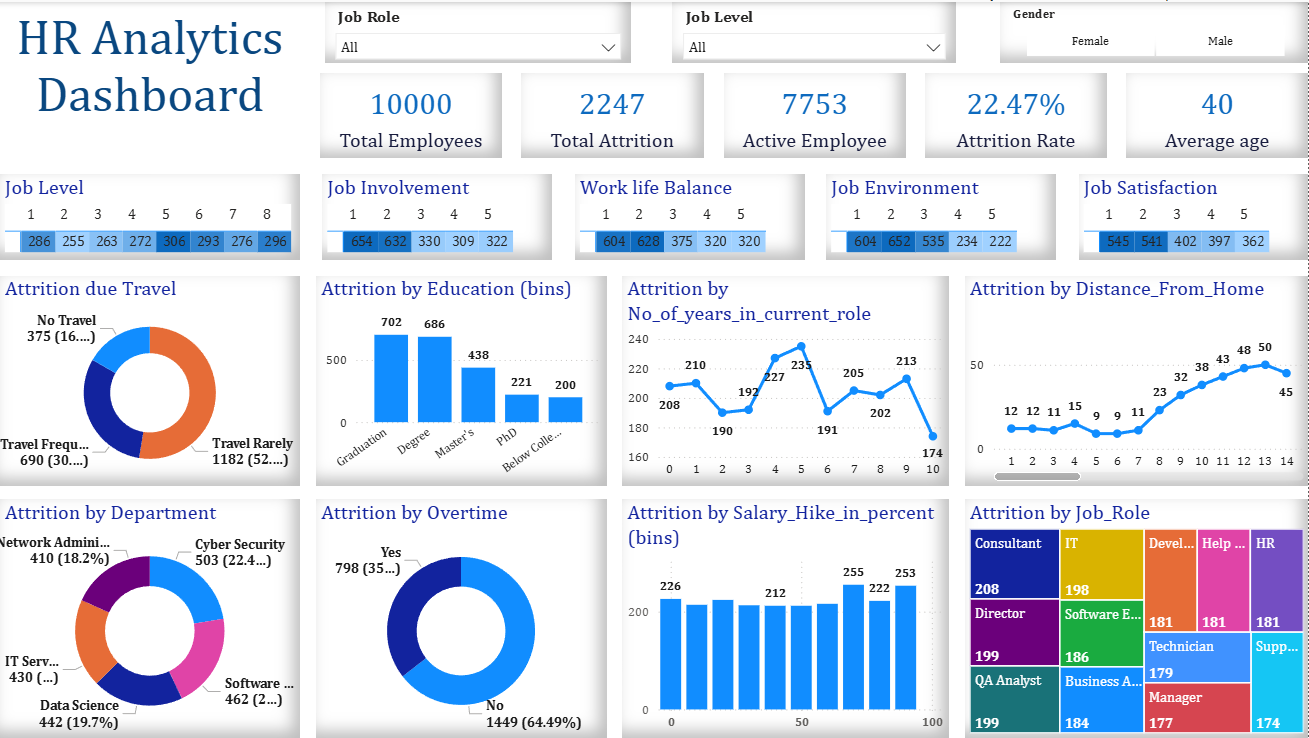

This screenshot's page, from the dashboard's own definition file:
{"tool":"powerbi","page":{"name":"HR","canvas":[1280,720],"ordinal":0},"visuals":[{"type":"card","fields":{"Values":["CountNonNull(Employees.Employee_ID)"]},"box":[313,69.7,178.5,83.2],"z":0},{"type":"card","fields":{"Values":["MeasureTable.Attrition_yes"]},"box":[510.2,69.7,178.5,83.2],"z":1000},{"type":"card","fields":{"Values":["MeasureTable.Attrition_No"]},"box":[707.4,69.7,178.5,83.2],"z":2000},{"type":"card","fields":{"Values":["MeasureTable.Attrition Rate"]},"box":[904.6,69.7,178.5,83.2],"z":3000},{"type":"card","fields":{"Values":["MeasureTable.Average_age"]},"box":[1101.5,69.7,178.5,83.2],"z":4000},{"type":"donutChart","title":"Attrition by Department","fields":{"Category":["Employees.Department"],"Y":["MeasureTable.Attrition_yes"]},"box":[0,486.7,293.5,233.6],"z":5000},{"type":"treemap","title":"Attrition by Job_Role","fields":{"Group":["Employees.Job_Role"],"Values":["MeasureTable.Attrition_yes"]},"box":[943.7,486.7,336.3,233.6],"z":6000},{"type":"lineChart","title":"Attrition by Distance_From_Home","fields":{"Y":["MeasureTable.Attrition_yes"],"Category":["Employees.Distance_From_Home"]},"box":[943.7,267.8,336.3,205.4],"z":7000},{"type":"donutChart","title":"Attrition by Overtime","fields":{"Category":["HR_Attrition_dataset.Overtime"],"Y":["MeasureTable.Attrition_yes"]},"box":[309.4,486.7,283.7,233.6],"z":8000},{"type":"pivotTable","title":"Job Satisfaction","fields":{"Values":["MeasureTable.Attrition_yes"],"Columns":["Employees.Job_Satisfaction"]},"box":[1055,168.8,225,83.2],"z":9000},{"type":"pivotTable","title":"Job Environment ","fields":{"Values":["MeasureTable.Attrition_yes"],"Columns":["HR_Attrition_dataset.Environment_Satisfaction"]},"box":[808.6,168.8,225,83.2],"z":10000},{"type":"pivotTable","title":"Work life Balance","fields":{"Values":["MeasureTable.Attrition_yes"],"Columns":["Employees.Work_life_balance"]},"box":[561.9,168.8,225,83.2],"z":11000},{"type":"donutChart","title":"Attrition due Travel","fields":{"Category":["HR_Attrition_dataset.Business_Travel"],"Y":["MeasureTable.Attrition_yes"]},"box":[0,267.8,293.5,205.4],"z":12000},{"type":"lineChart","title":"Attrition by No_of_years_in_current_role","fields":{"Category":["HR_Attrition_dataset.No_of_years_in_current_role"],"Y":["MeasureTable.Attrition_yes"]},"box":[609,267.8,319.2,205.4],"z":13000},{"type":"columnChart","title":"Attrition by Salary_Hike_in_percent (bins)","fields":{"Y":["MeasureTable.Attrition_yes"],"Category":["Employees.Salary_Hike_in_percent (bins)"]},"box":[609,486.7,319.2,233.6],"z":14000},{"type":"columnChart","title":"Attrition by Education (bins)","fields":{"Y":["MeasureTable.Attrition_yes"],"Category":["Employees.Education"]},"box":[309.4,267.8,283.7,205.4],"z":15000},{"type":"pivotTable","title":"Job Involvement","fields":{"Values":["MeasureTable.Attrition_yes"],"Columns":["HR_Attrition_dataset.Job_Involvement"]},"box":[315.2,168.8,225,83.2],"z":16000},{"type":"pivotTable","title":"Job Level","fields":{"Values":["MeasureTable.Attrition_yes"],"Columns":["Employees.Job_Level"]},"box":[0,168.8,293.5,83.2],"z":17000},{"type":"textbox","box":[0,0,293.5,152.9],"z":18000},{"type":"slicer","fields":{"Values":["HR_Attrition_dataset.Gender"]},"box":[978.3,0,302,59.9],"z":19000},{"type":"slicer","fields":{"Values":["Employees.Job_Level"]},"box":[657.9,0,277.6,59.9],"z":20000},{"type":"slicer","fields":{"Values":["Employees.Job_Role"]},"box":[317.9,0,299.6,59.9],"z":21000}]}

Visuals, with their boxes in screenshot pixels (x1, y1, x2, y2), scaled from the page's 1280x720 canvas onto the 1309x738 screenshot:
card - CountNonNull(Employees.Employee_ID): region(320, 71, 503, 157)
card - MeasureTable.Attrition_yes: region(522, 71, 704, 157)
card - MeasureTable.Attrition_No: region(723, 71, 906, 157)
card - MeasureTable.Attrition Rate: region(925, 71, 1108, 157)
card - MeasureTable.Average_age: region(1126, 71, 1308, 157)
"Attrition by Department" donutChart: region(0, 499, 300, 737)
"Attrition by Job_Role" treemap: region(965, 499, 1308, 737)
"Attrition by Distance_From_Home" lineChart: region(965, 274, 1308, 485)
"Attrition by Overtime" donutChart: region(316, 499, 607, 737)
"Job Satisfaction" pivotTable: region(1079, 173, 1308, 258)
"Job Environment " pivotTable: region(827, 173, 1057, 258)
"Work life Balance" pivotTable: region(575, 173, 805, 258)
"Attrition due Travel" donutChart: region(0, 274, 300, 485)
"Attrition by No_of_years_in_current_role" lineChart: region(623, 274, 949, 485)
"Attrition by Salary_Hike_in_percent (bins)" columnChart: region(623, 499, 949, 737)
"Attrition by Education (bins)" columnChart: region(316, 274, 607, 485)
"Job Involvement" pivotTable: region(322, 173, 552, 258)
"Job Level" pivotTable: region(0, 173, 300, 258)
textbox: region(0, 0, 300, 157)
slicer - HR_Attrition_dataset.Gender: region(1000, 0, 1308, 61)
slicer - Employees.Job_Level: region(673, 0, 957, 61)
slicer - Employees.Job_Role: region(325, 0, 631, 61)
